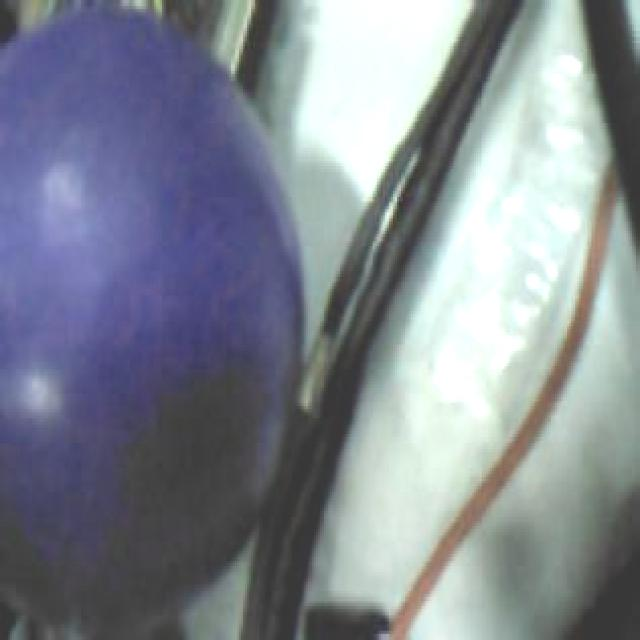BallPurple: (0, 4, 306, 614)
